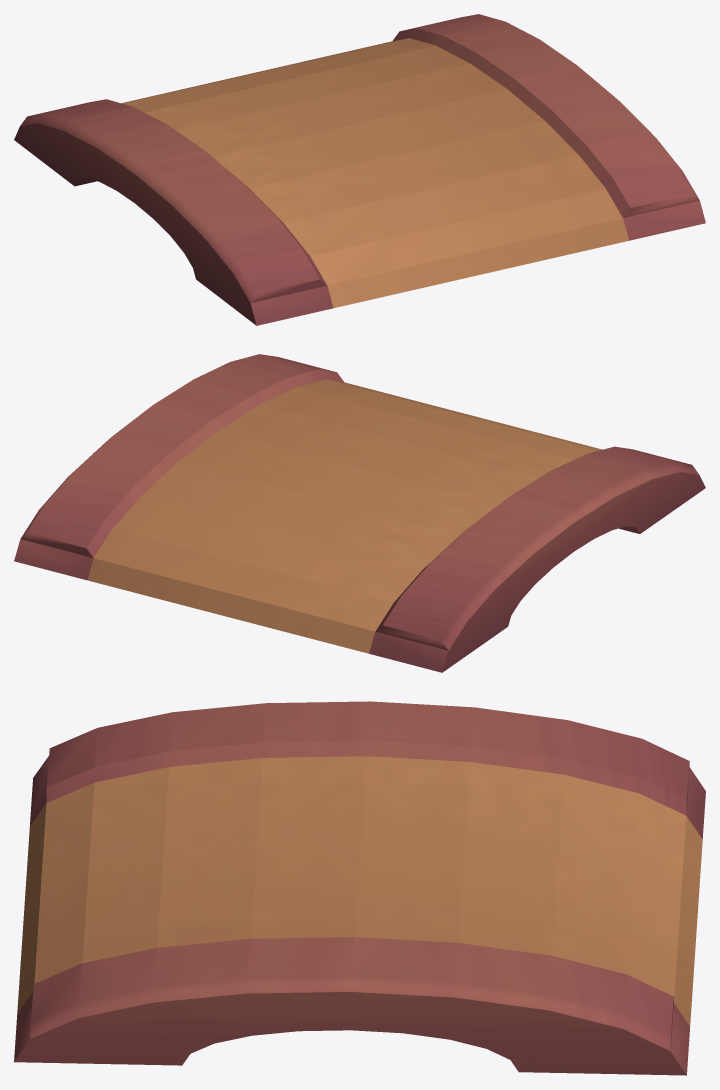
The model's file is Bridge.fbx.
3 views of the same model, one above another, from view 1: azimuth 30°, elevation 25°; view 2: azimuth 150°, elevation 25°; view 3: azimuth 270°, elevation 25° (orthographic). The views are drawn at different scales.
Parts seen in each view (by area): view 1: pCylinder15; view 2: pCylinder15; view 3: pCylinder15.
Boxes of the visible parts, box(x1,y1,x2,y2) form: pCylinder15: box(14, 14, 705, 325); pCylinder15: box(14, 354, 705, 672); pCylinder15: box(14, 701, 705, 1075).
Size of the model in its own units: 398 by 57.59 by 398.
Materials: 1 (1 with a texture image).
